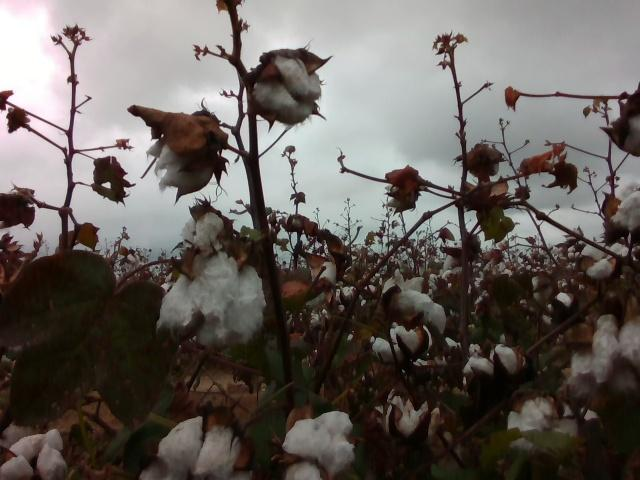cotton_ready: (158, 247, 268, 347), (140, 412, 256, 480), (249, 52, 322, 127), (565, 314, 640, 386), (283, 410, 358, 480), (145, 139, 216, 198), (504, 393, 600, 434), (0, 426, 66, 480), (387, 286, 450, 336), (384, 396, 446, 443), (462, 341, 534, 381), (372, 326, 433, 367), (303, 261, 339, 310), (609, 180, 640, 236), (587, 248, 638, 281), (182, 211, 226, 248), (617, 105, 640, 161)
